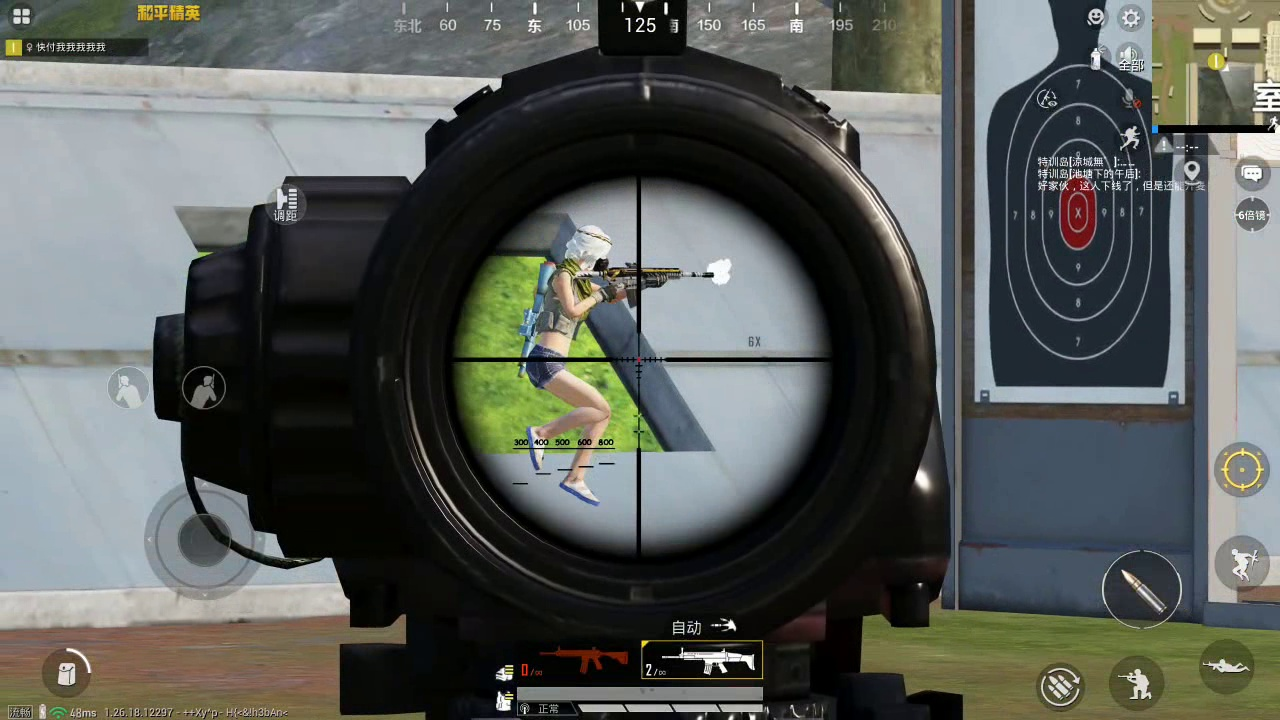enemy: (524, 223, 612, 509)
